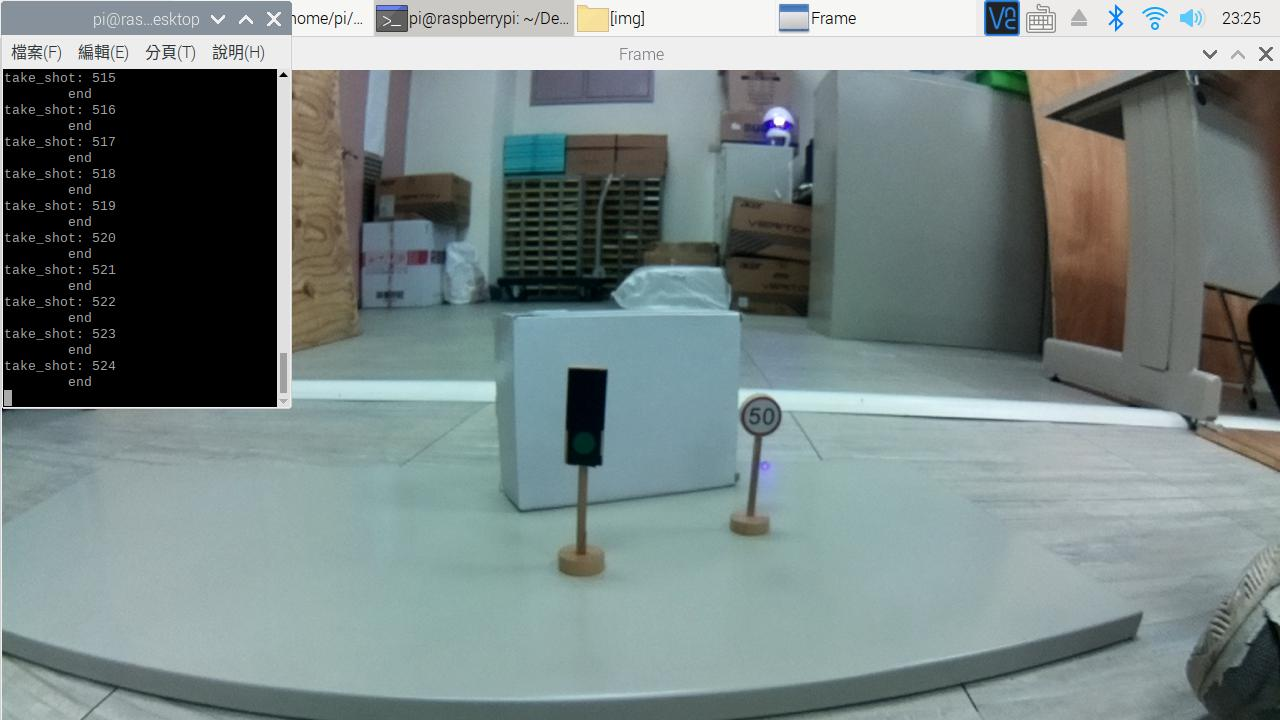Green: (559, 356, 617, 481)
Speed50: (733, 388, 791, 446)
